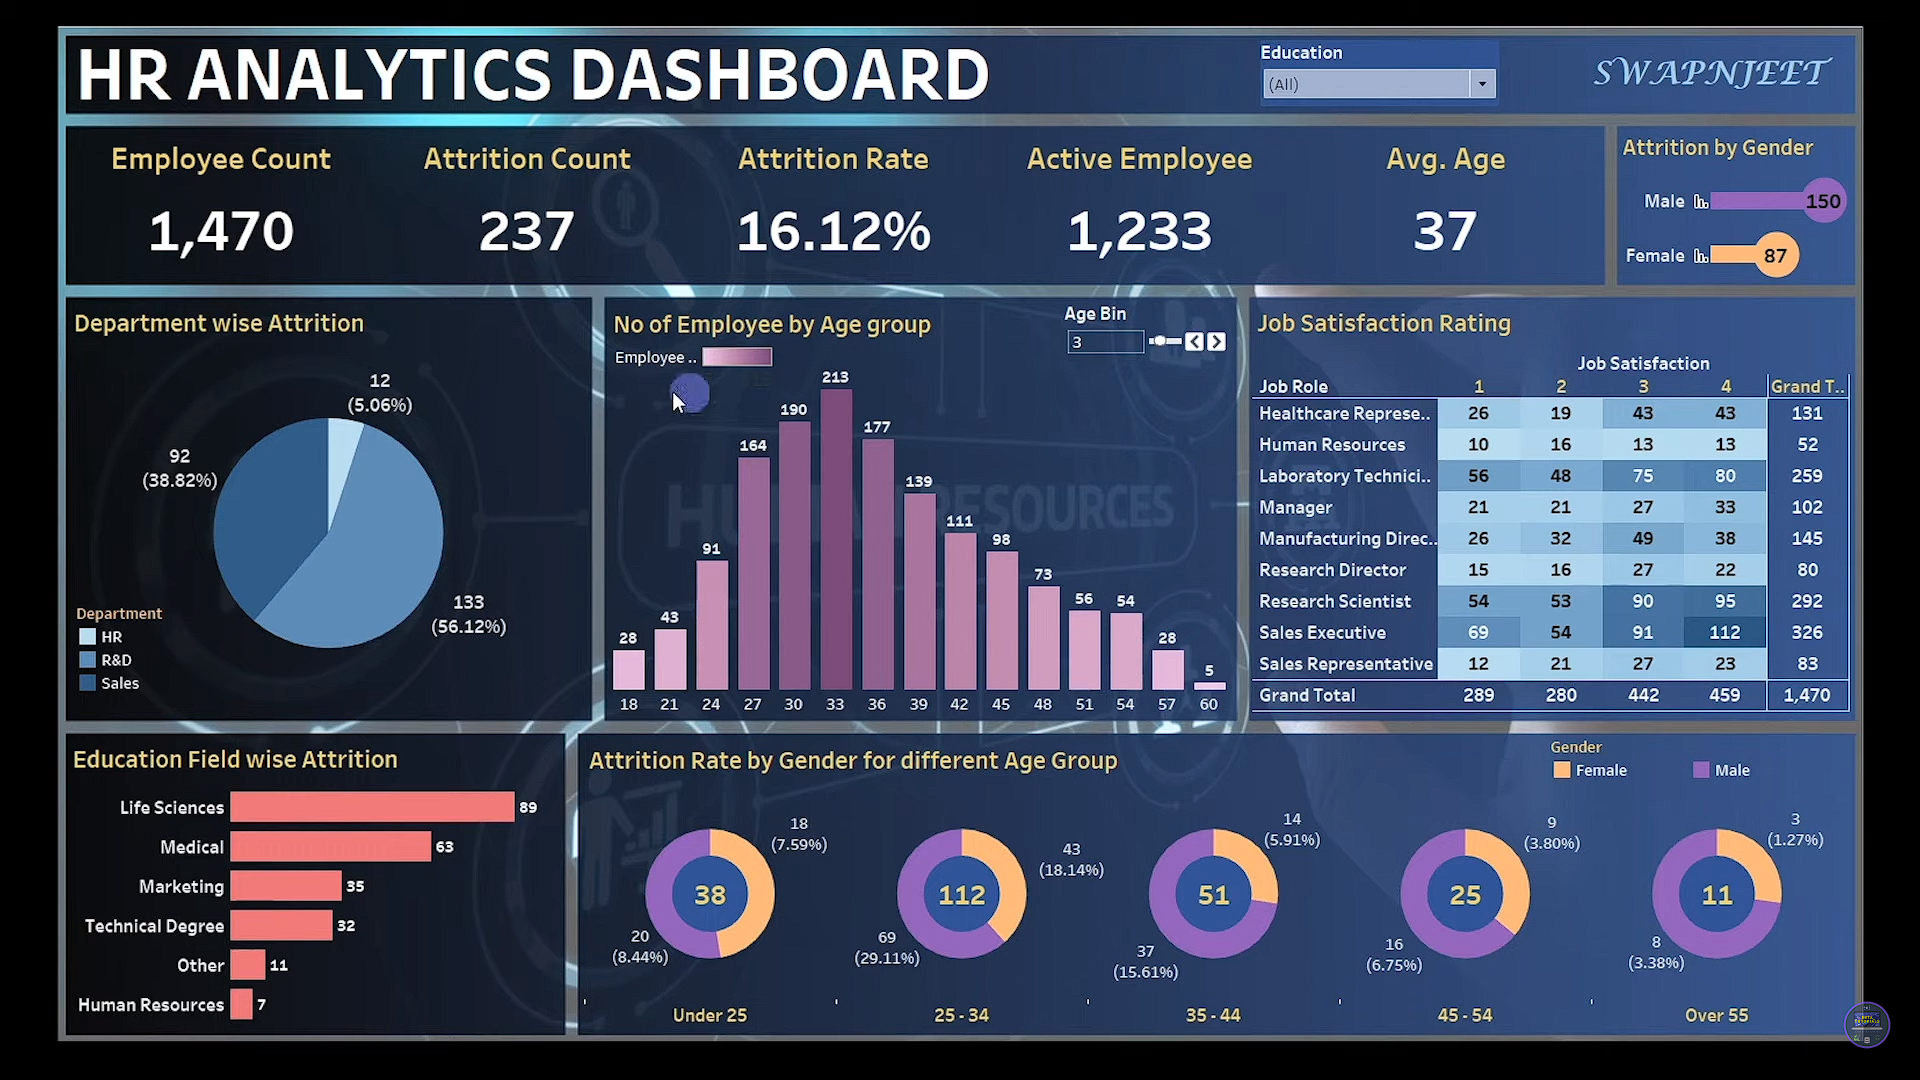

This screenshot's page, from the dashboard's own definition file:
{"tool":"tableau","page":{"name":"HR ANALYTICS DASHBOARD","canvas":[1000,1000],"units":"permille","ordinal":0},"visuals":[{"type":"image","param":"Image/HR background.pptx.jpg","box":[5,9.4,990,981.2]},{"type":"text","box":[45.6,23.5,500.6,65.7]},{"type":"filter","title":"Department wise Attrition","param":"[federated.0tjzytw155gpet154yjep0mvtzx8].[none:Education:nk]","box":[576.2,29.3,160,63.4]},{"type":"worksheet","title":"Attrition by Gender","mark":"Automatic","rows":["Gender"],"cols":["Calculation_437693634505932805","Calculation_437693634505932805"],"box":[836.9,110.3,118.1,144.4]},{"type":"worksheet","title":"KPI","mark":"Automatic","box":[45.6,111.5,777.5,142]},{"type":"worksheet","title":"JOB SATISFACTION RATING","mark":"Square","rows":["Job Role"],"cols":["Job Satisfaction"],"box":[648.8,273.5,305,399.1]},{"type":"worksheet","title":"No. of Employee by age group","mark":"Automatic","rows":["Employee Count"],"cols":["Age (bin)"],"box":[321.2,275.8,316.2,397.9]},{"type":"parameter","param":"[Parameters].[Parameter 1]","box":[505.6,275.8,131.9,50.5]},{"type":"worksheet","title":"Department wise Attrition","mark":"Pie","box":[45.6,278.2,268.1,394.4]},{"type":"legend","title":"No. of Employee by age group","param":"[federated.0tjzytw155gpet154yjep0mvtzx8].[sum:Employee Count:qk]","box":[549.4,338,87.5,65.7]},{"type":"legend","title":"Department wise Attrition","param":"[federated.0tjzytw155gpet154yjep0mvtzx8].[none:Department:nk]","box":[46.2,565.7,87.5,106.8]},{"type":"worksheet","title":"EDUCATION FIELD WISE ATTRITION","mark":"Automatic","rows":["Education Field"],"cols":["Calculation_437693634505932805"],"box":[45.6,692.5,250.6,281.7]},{"type":"worksheet","title":"ATTRITION RATE FOR GENDER BY DIFFERENT AGE GROUP","mark":"Pie","rows":["Calculation_133137709840228353","Calculation_133137709840228353"],"cols":["CF_age band"],"box":[307.5,694.8,644.4,279.3]},{"type":"legend","title":"ATTRITION RATE FOR GENDER BY DIFFERENT AGE GROUP","param":"[federated.0tjzytw155gpet154yjep0mvtzx8].[none:Gender:nk]","box":[663.1,698.4,288.1,55.2]}]}

Visuals, with their boxes on the dashboard's canvas, which has no fixed pixel size, in thousandths of its width and height (x1, y1, x2, y2). These are canvas units, not pixel positions in the 1920x1080 screenshot, which may show the page scaled, cropped or inside an application window:
image: pyautogui.locateOnScreen(5, 9, 995, 991)
text: pyautogui.locateOnScreen(46, 24, 546, 89)
"Department wise Attrition" filter: pyautogui.locateOnScreen(576, 29, 736, 93)
"Attrition by Gender" worksheet: pyautogui.locateOnScreen(837, 110, 955, 255)
"KPI" worksheet: pyautogui.locateOnScreen(46, 112, 823, 254)
"JOB SATISFACTION RATING" worksheet (Square marks): pyautogui.locateOnScreen(649, 274, 954, 673)
"No. of Employee by age group" worksheet: pyautogui.locateOnScreen(321, 276, 637, 674)
parameter: pyautogui.locateOnScreen(506, 276, 638, 326)
"Department wise Attrition" worksheet (Pie marks): pyautogui.locateOnScreen(46, 278, 314, 673)
"No. of Employee by age group" legend: pyautogui.locateOnScreen(549, 338, 637, 404)
"Department wise Attrition" legend: pyautogui.locateOnScreen(46, 566, 134, 672)
"EDUCATION FIELD WISE ATTRITION" worksheet: pyautogui.locateOnScreen(46, 692, 296, 974)
"ATTRITION RATE FOR GENDER BY DIFFERENT AGE GROUP" worksheet (Pie marks): pyautogui.locateOnScreen(308, 695, 952, 974)
"ATTRITION RATE FOR GENDER BY DIFFERENT AGE GROUP" legend: pyautogui.locateOnScreen(663, 698, 951, 754)
